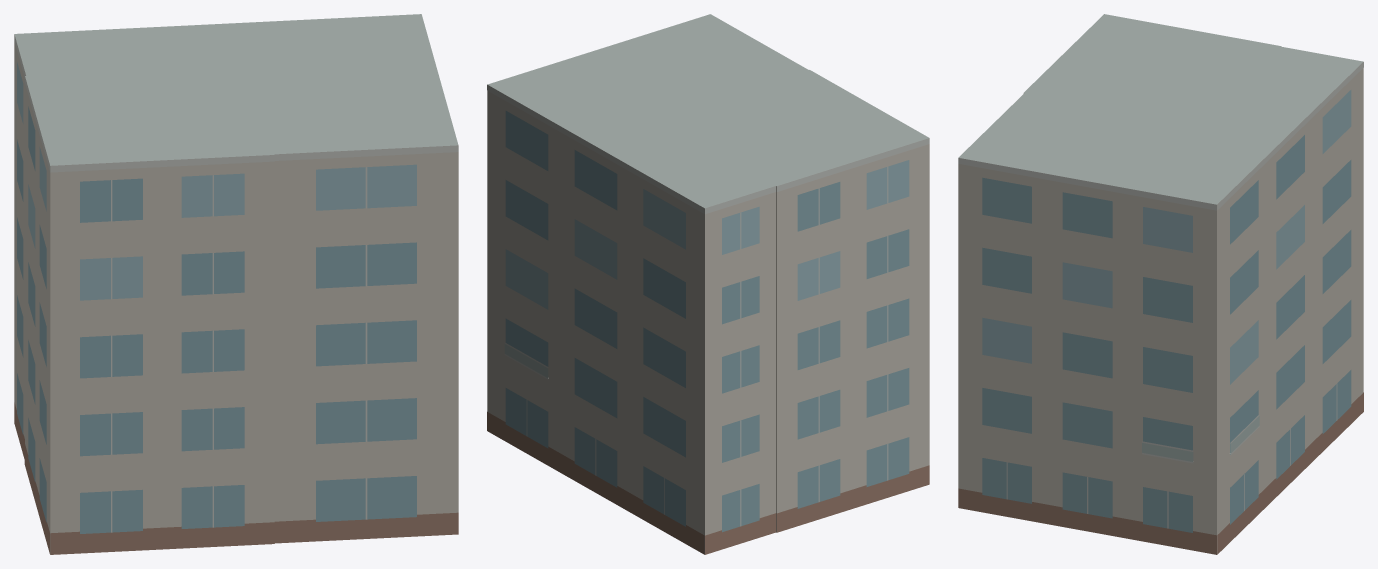
Rendered from survey-upis-32670142.glb.
The picture shows the model from 3 angles, left to right: view 1: azimuth 30°, elevation 25°; view 2: azimuth 150°, elevation 25°; view 3: azimuth 270°, elevation 25°; orthographic projection. The views are drawn at different scales.
Parts seen in each view (by area): view 1: survey-upis-32670142.tmp; view 2: survey-upis-32670142.tmp; view 3: survey-upis-32670142.tmp.
Part boxes in pixels (box(x1,y1,x2,y2)): survey-upis-32670142.tmp: box(14, 14, 458, 554); survey-upis-32670142.tmp: box(487, 14, 929, 554); survey-upis-32670142.tmp: box(958, 14, 1363, 554).
Bounding box in the file's own units: 16.59 × 14.2 × 14.91.
